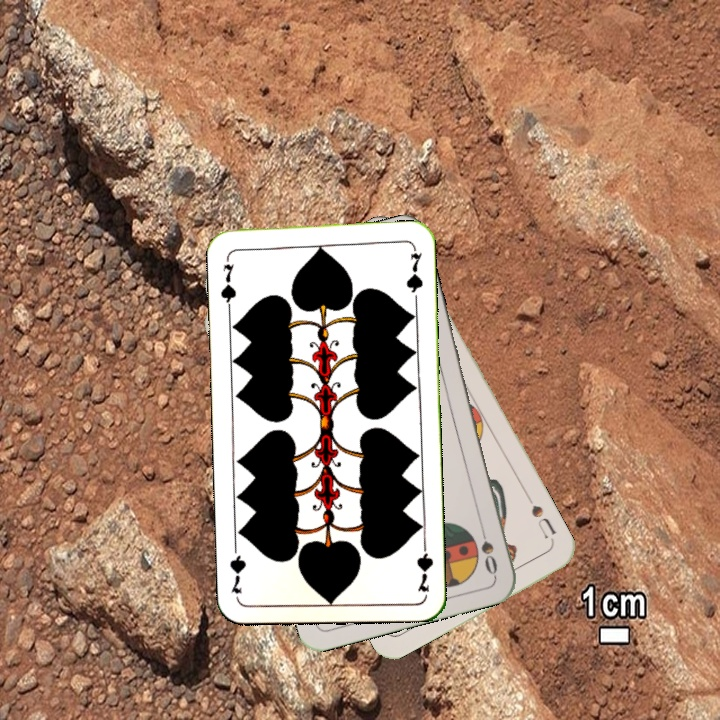G7: (412, 535, 435, 595), (216, 251, 239, 310)
SO: (476, 519, 500, 578)
SU: (523, 491, 559, 546)
